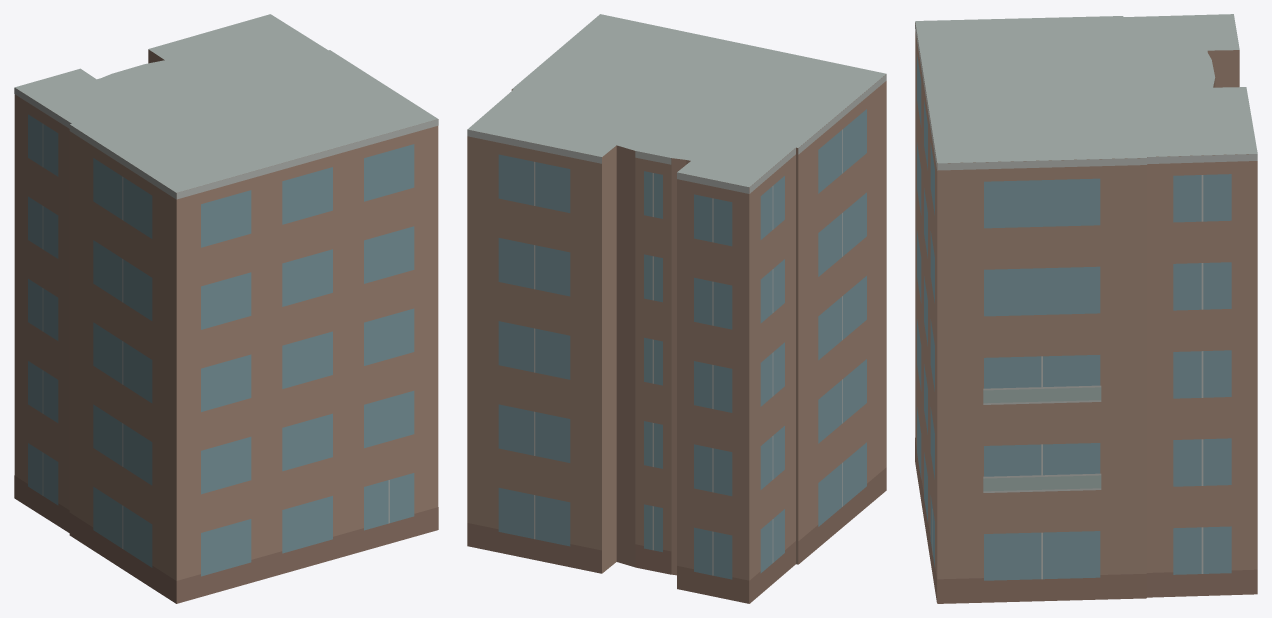
The model's file is survey-upis-32959700.glb.
3 renders of one model, left to right at view 1: azimuth 30°, elevation 25°; view 2: azimuth 150°, elevation 25°; view 3: azimuth 270°, elevation 25°, orthographic. The views are drawn at different scales.
Visible parts, largest first — view 1: survey-upis-32959700.tmp; view 2: survey-upis-32959700.tmp; view 3: survey-upis-32959700.tmp.
Boxes of the visible parts, x1,y1,x2,y2 form: survey-upis-32959700.tmp: [14, 14, 438, 603]; survey-upis-32959700.tmp: [467, 14, 886, 603]; survey-upis-32959700.tmp: [915, 14, 1257, 603].
Size of the model in its own units: 10.99 by 15.1 by 10.66.
